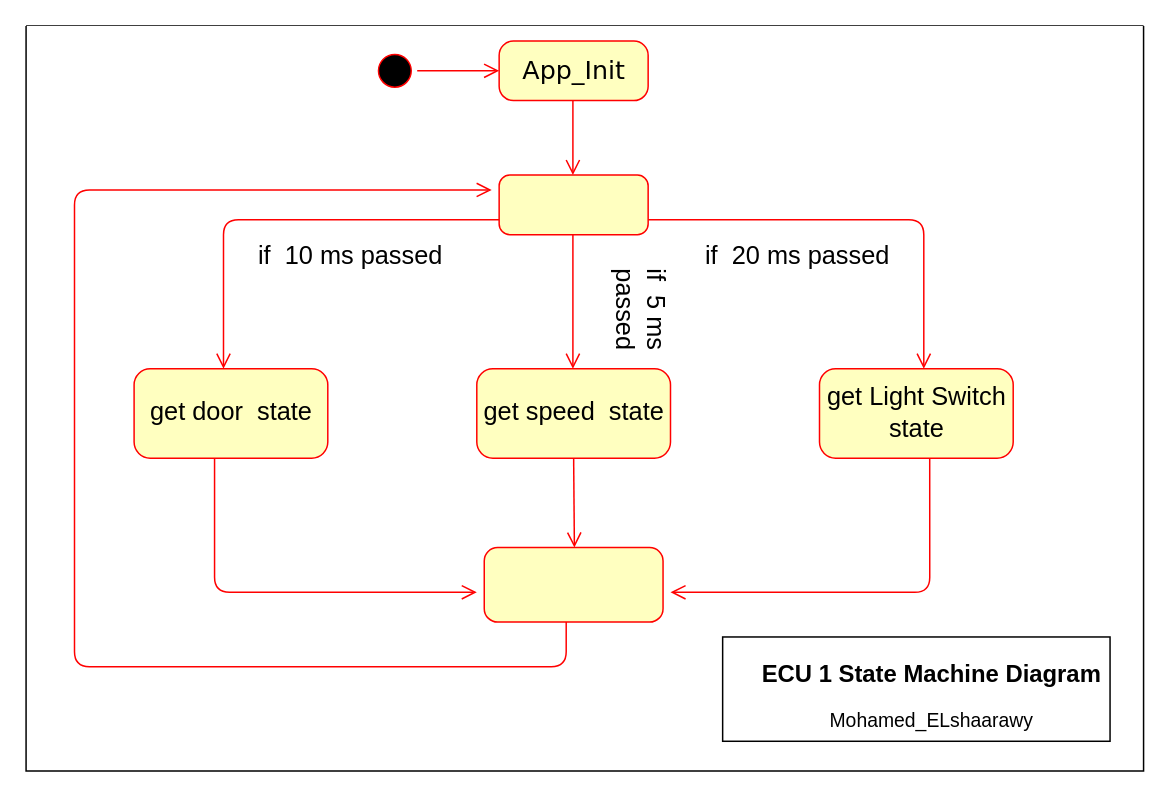
Some shapes in this 1170 by 797 pixel diagram are drawn without their labels. The shapes that lost their labels are listed below. From the top down, each one's box as (x1, y1, x2, y2) in pixels, then its label:
(498, 174, 648, 235): Idle
(483, 546, 663, 622): send state
